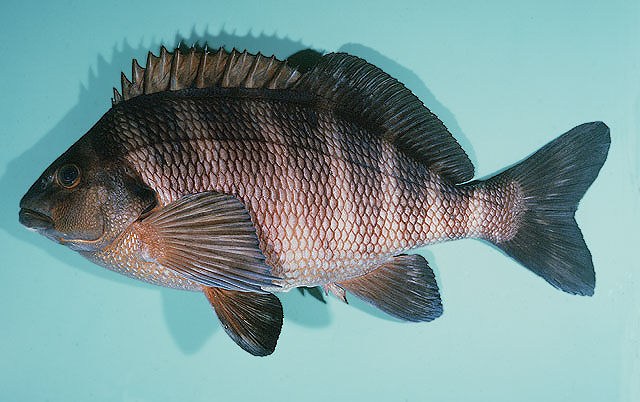fish: (18, 40, 612, 358)
